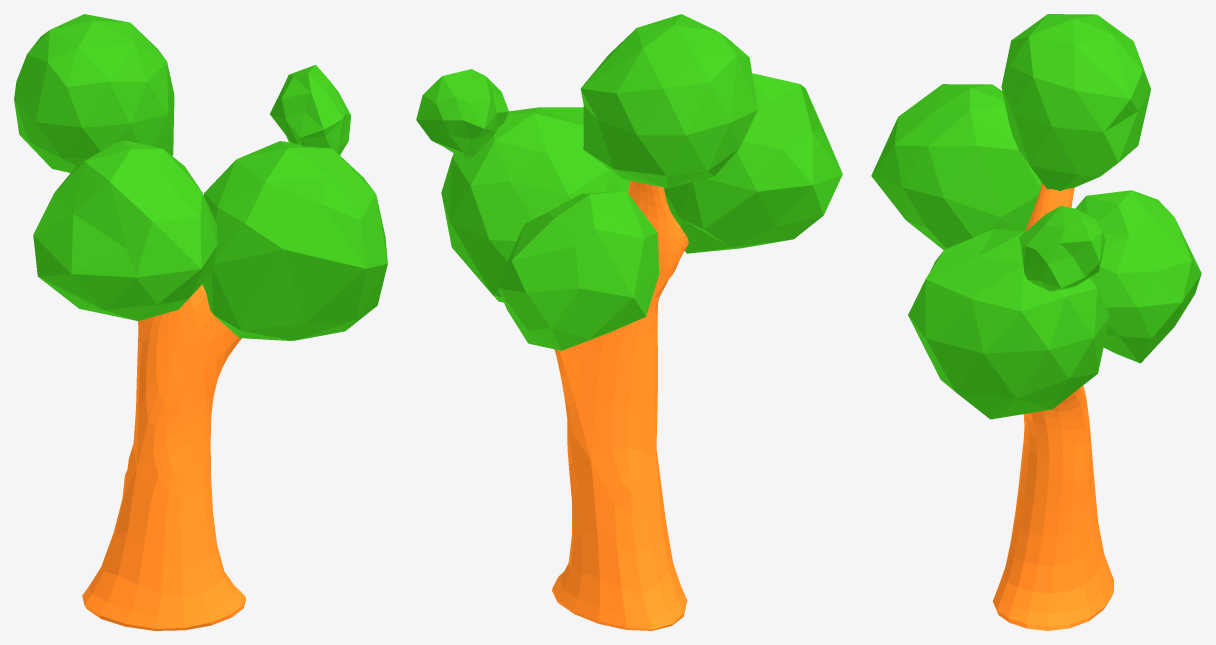
File: tree_2.gltf
3 views of the same model, side by side, from view 1: azimuth 30°, elevation 25°; view 2: azimuth 150°, elevation 25°; view 3: azimuth 270°, elevation 25° (orthographic). The views are drawn at different scales.
Visible parts, largest first — view 1: Leaves, Tree_2; view 2: Leaves, Tree_2; view 3: Leaves, Tree_2.
Boxes of the visible parts, x1,y1,x2,y2 form: Leaves: [14, 14, 387, 340]; Tree_2: [82, 284, 245, 630]; Leaves: [416, 14, 842, 350]; Tree_2: [552, 180, 688, 630]; Leaves: [871, 14, 1201, 419]; Tree_2: [992, 183, 1113, 630].
Bounding box in the file's own units: 682 × 1104 × 597.
